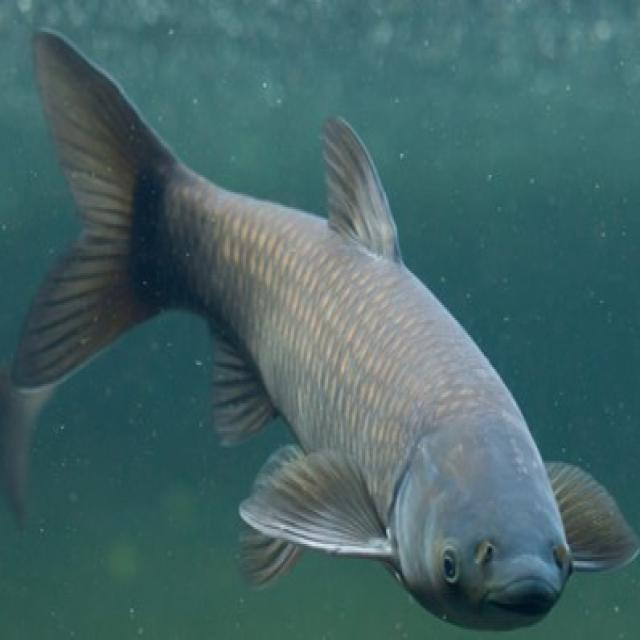Big-Head-Carp: (22, 15, 640, 640)
